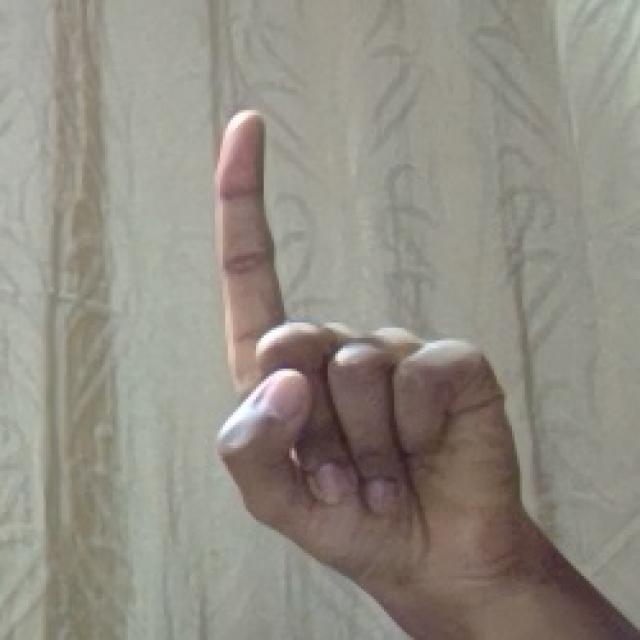Numeric-1: (214, 103, 507, 580)
